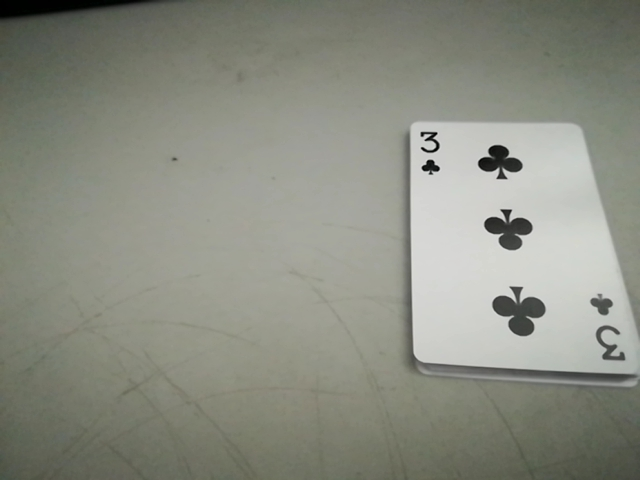mh 3: (588, 289, 629, 371), (410, 125, 452, 180)
